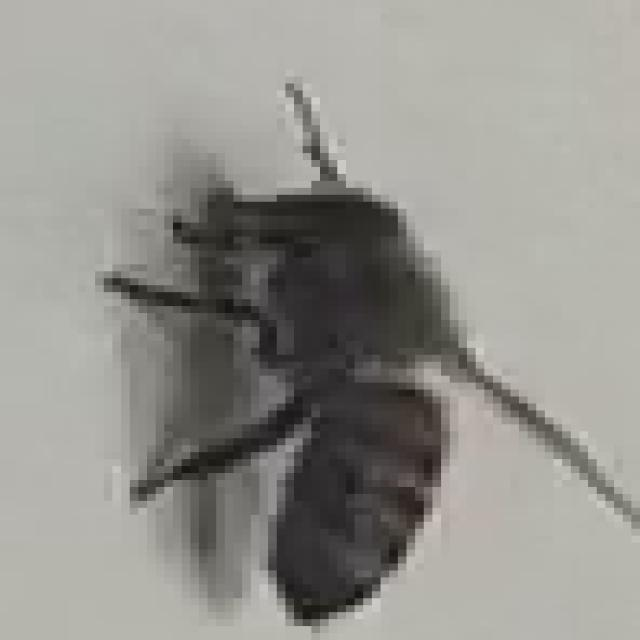honeybee: (91, 104, 545, 604)
